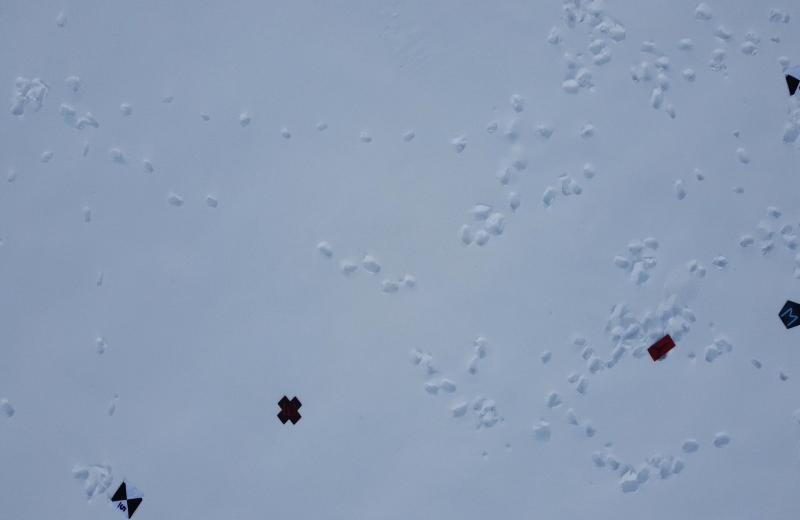Cross: (274, 392, 303, 428)
Pentagon: (770, 292, 800, 331)
Rectangle: (643, 334, 678, 362)
